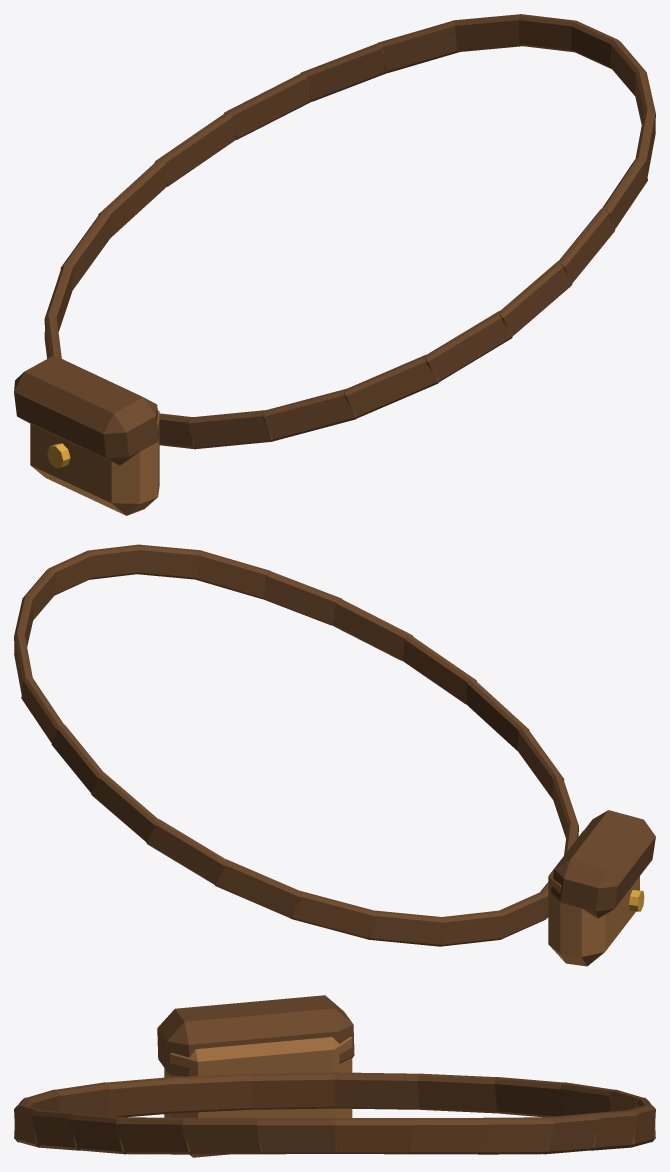
The model's file is crossbody_bag.glb.
3 views of the same model, one above another, from view 1: azimuth 30°, elevation 25°; view 2: azimuth 150°, elevation 25°; view 3: azimuth 270°, elevation 25° (orthographic). The views are drawn at different scales.
Visible parts, largest first — view 1: crossbody_bag; view 2: crossbody_bag; view 3: crossbody_bag.
Boxes of the visible parts, x1,y1,x2,y2 form: crossbody_bag: [14, 14, 655, 515]; crossbody_bag: [14, 544, 655, 966]; crossbody_bag: [14, 995, 655, 1157].
Size of the model in its own units: 0.8732 by 0.4001 by 0.6895.
